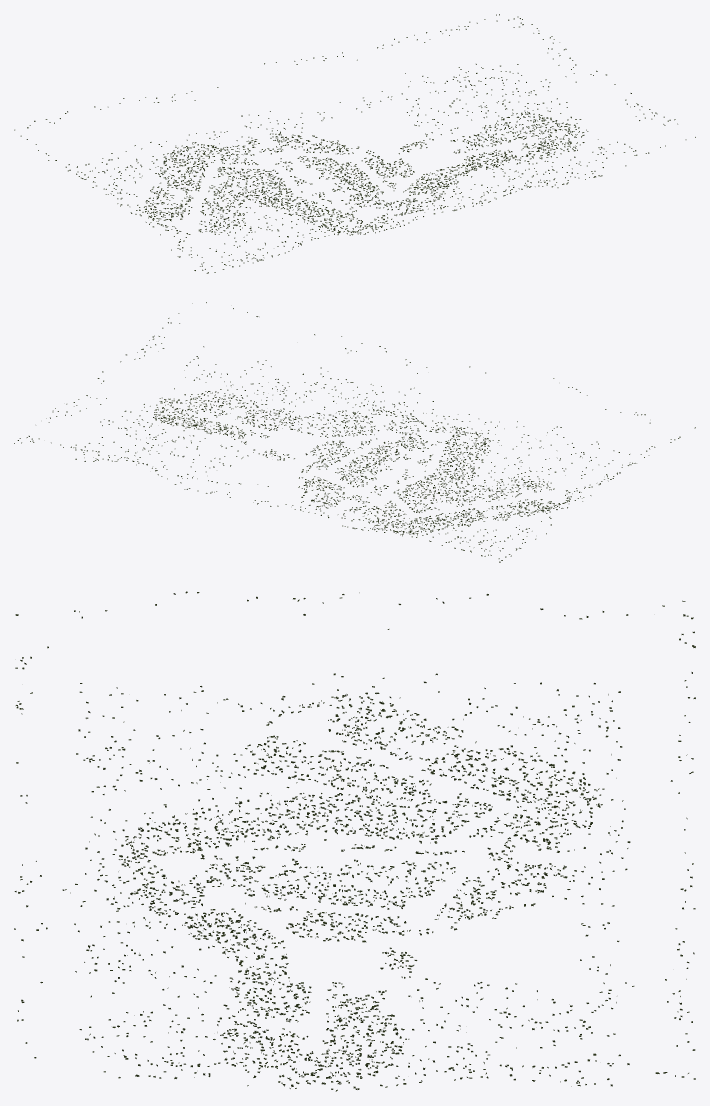
Rendered from SM_Art_Cover_L_BrokenCompact_GrassBlades.gltf.
3 renders of one model, top to bottom at view 1: azimuth 30°, elevation 25°; view 2: azimuth 150°, elevation 25°; view 3: azimuth 270°, elevation 25°, orthographic. The views are drawn at different scales.
Parts seen in each view (by area): view 1: SM_Art_Cover_L_BrokenCompact_GrassBlades; view 2: SM_Art_Cover_L_BrokenCompact_GrassBlades; view 3: SM_Art_Cover_L_BrokenCompact_GrassBlades.
Part boxes in pixels (box(x1,y1,x2,y2)): SM_Art_Cover_L_BrokenCompact_GrassBlades: box(14, 14, 695, 273); SM_Art_Cover_L_BrokenCompact_GrassBlades: box(14, 302, 695, 562); SM_Art_Cover_L_BrokenCompact_GrassBlades: box(14, 591, 695, 1091).
Bounding box in the file's own units: 347 × 31.5 × 219.
Materials: 1 (1 with a texture image).
